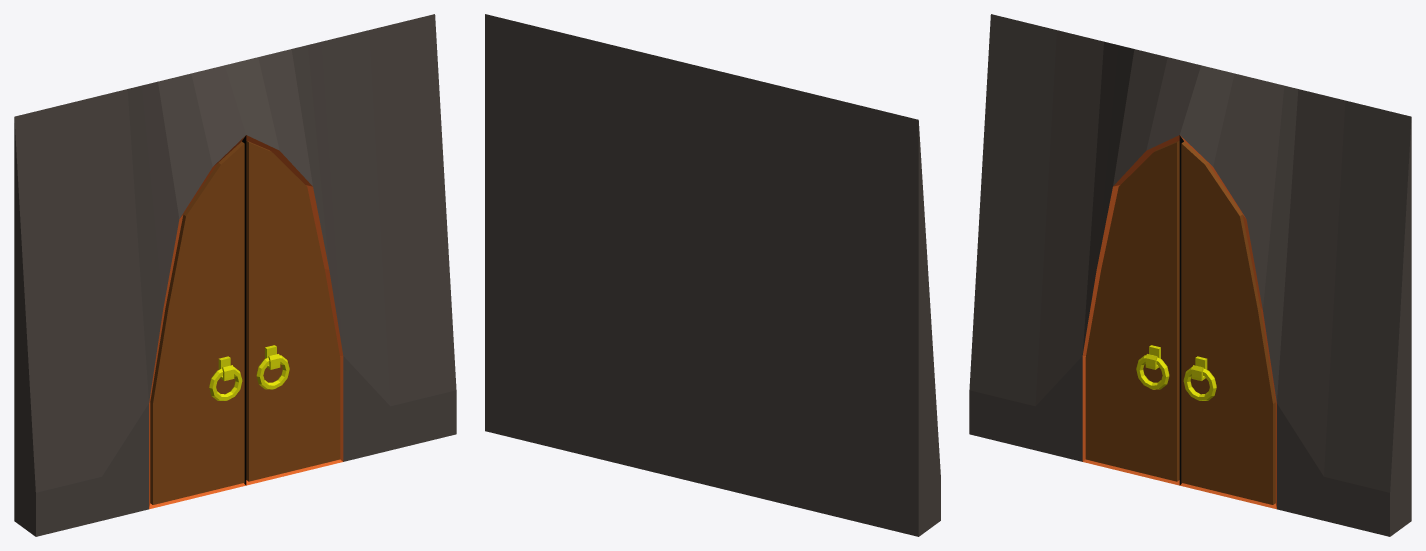
Rendered from Ascencion_Chamber.fbx.
The picture shows the model from 3 angles, left to right: view 1: azimuth 30°, elevation 25°; view 2: azimuth 150°, elevation 25°; view 3: azimuth 330°, elevation 25°; orthographic projection. The views are drawn at different scales.
Parts seen in each view (by area): view 1: Door-Frame, Door, Torus, Cube; view 2: Door-Frame; view 3: Door-Frame, Door, Torus, Cube.
Boxes of the visible parts, x1=… form: Door-Frame: x1=14, y1=14, x2=456, y2=536; Door: x1=150, y1=140, x2=340, y2=504; Torus: x1=209, y1=355, x2=289, y2=400; Cube: x1=218, y1=345, x2=280, y2=380; Door-Frame: x1=485, y1=14, x2=940, y2=536; Door-Frame: x1=969, y1=14, x2=1411, y2=536; Door: x1=1085, y1=140, x2=1275, y2=504; Torus: x1=1136, y1=355, x2=1216, y2=400; Cube: x1=1145, y1=345, x2=1207, y2=380.
Bounding box in the file's own units: 502 × 462 × 57.02.
